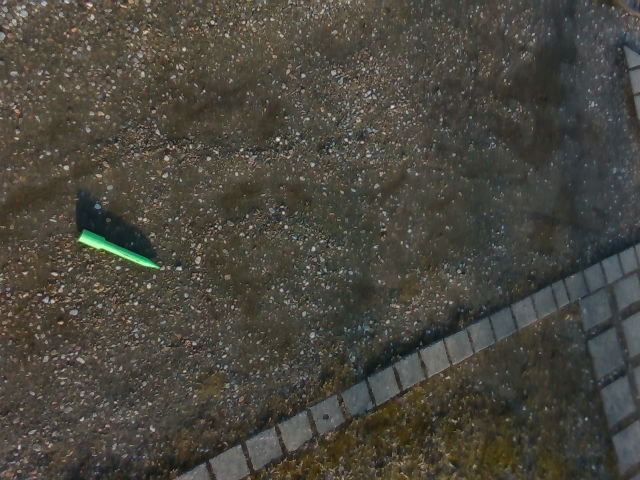Probe: (73, 221, 166, 275)
